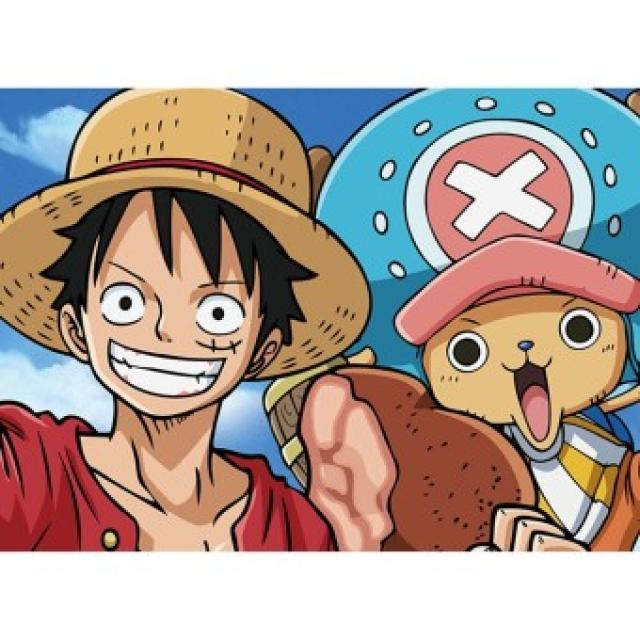Chyopa: (296, 86, 640, 555)
Luffy: (0, 90, 335, 430)
